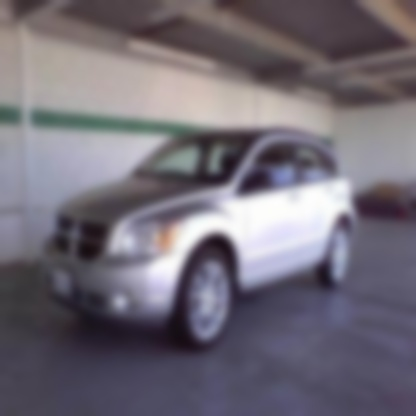Vehicle: (37, 125, 358, 356)
